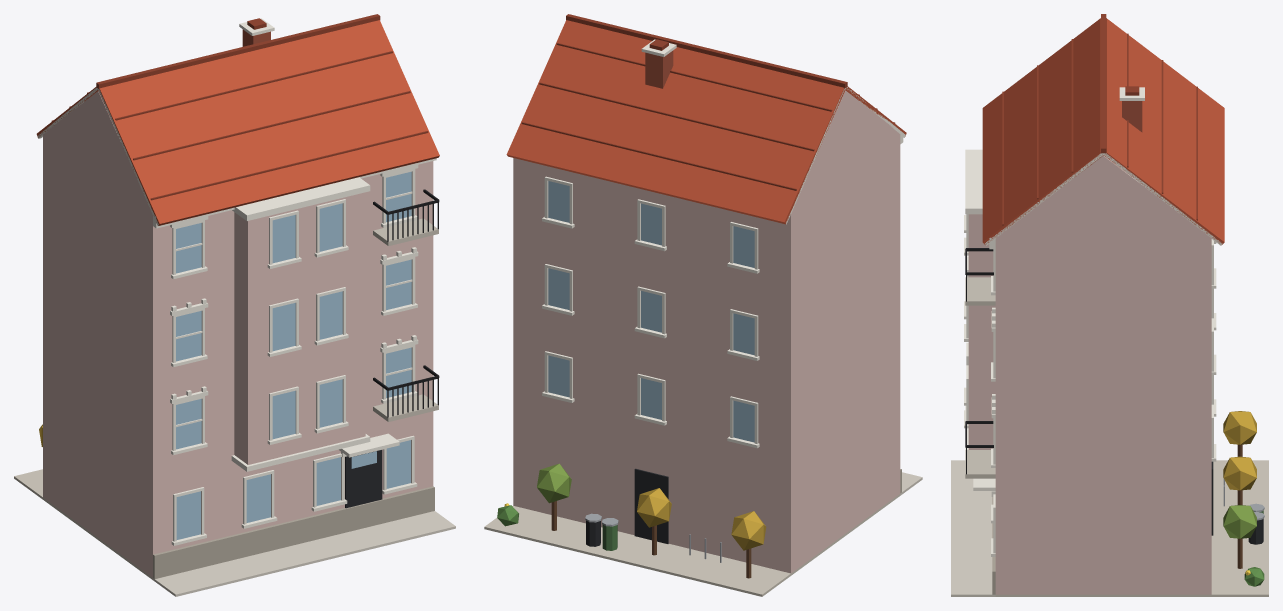
File: Blok_duz_4k_8_Hafif.fbx
3 renders of one model, left to right at view 1: azimuth 30°, elevation 25°; view 2: azimuth 150°, elevation 25°; view 3: azimuth 270°, elevation 25°, orthographic.
Visible parts, largest first — view 1: Blok_duz_4k_8_Hafif; view 2: Blok_duz_4k_8_Hafif; view 3: Blok_duz_4k_8_Hafif.
Boxes of the visible parts, x1,y1,x2,y2 form: Blok_duz_4k_8_Hafif: (14,14,455,596); Blok_duz_4k_8_Hafif: (484,14,922,596); Blok_duz_4k_8_Hafif: (951,14,1268,596).
Size of the model in its own units: 10.04 by 15.86 by 10.
